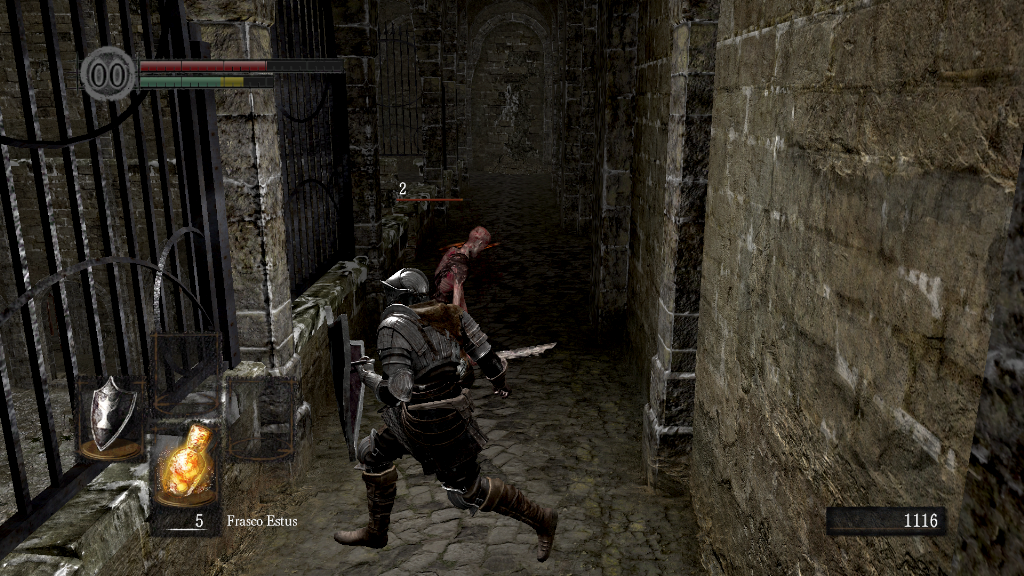health: (138, 58, 343, 71)
hollow: (433, 224, 501, 311)
humanity: (80, 45, 136, 102)
player: (327, 265, 561, 563)
souls: (825, 506, 945, 536)
stamina: (138, 74, 274, 88)
